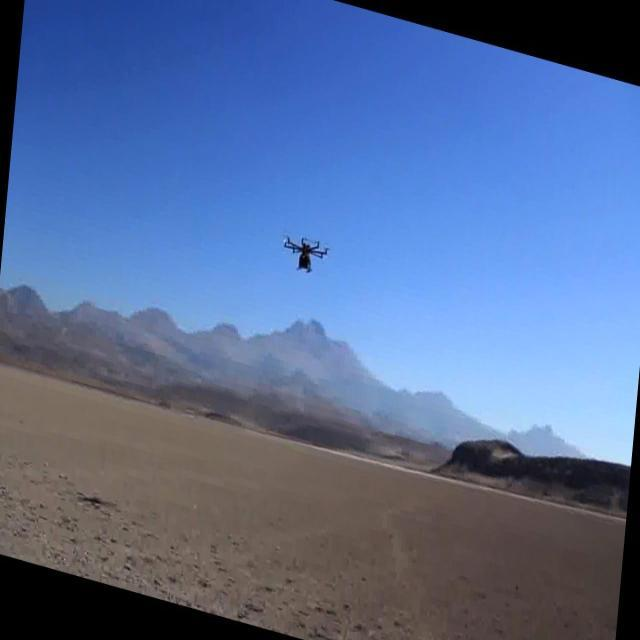drone: (278, 222, 333, 282)
